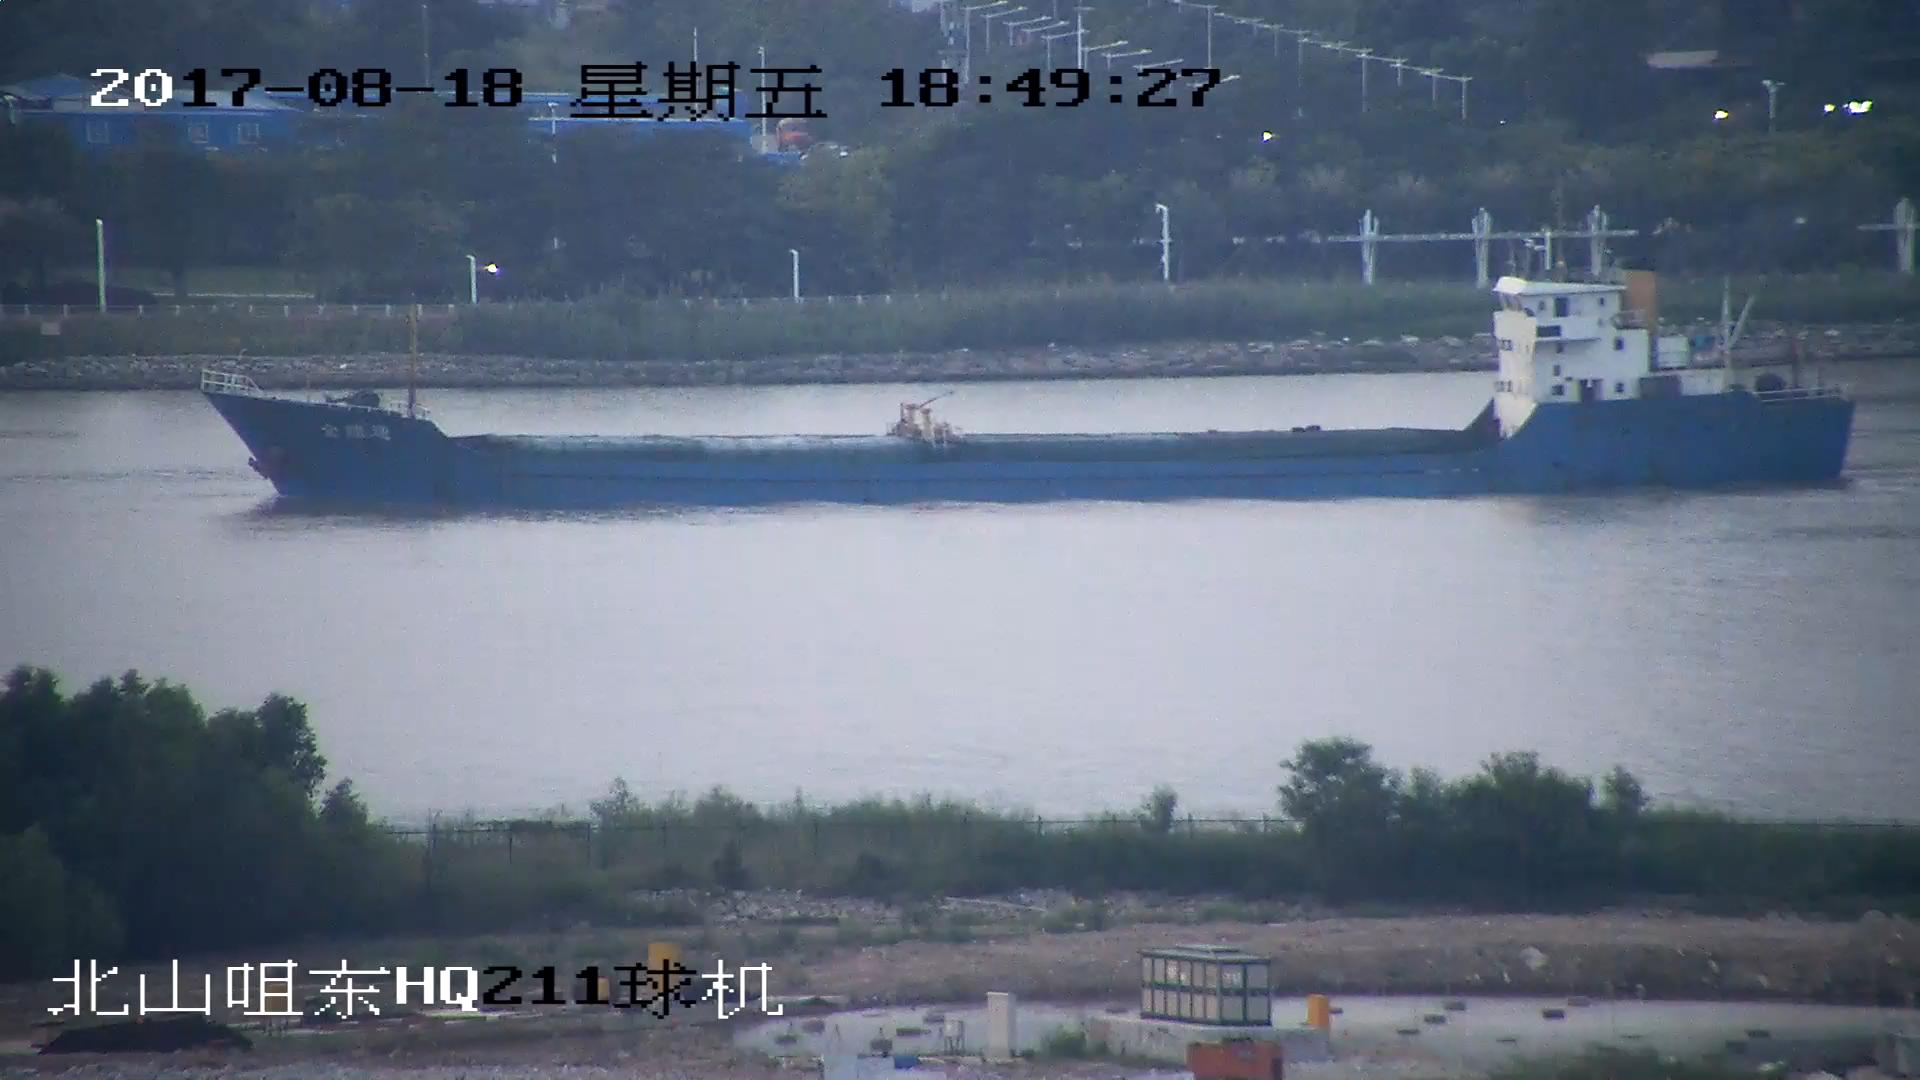general cargo ship: (204, 242, 1845, 522)
